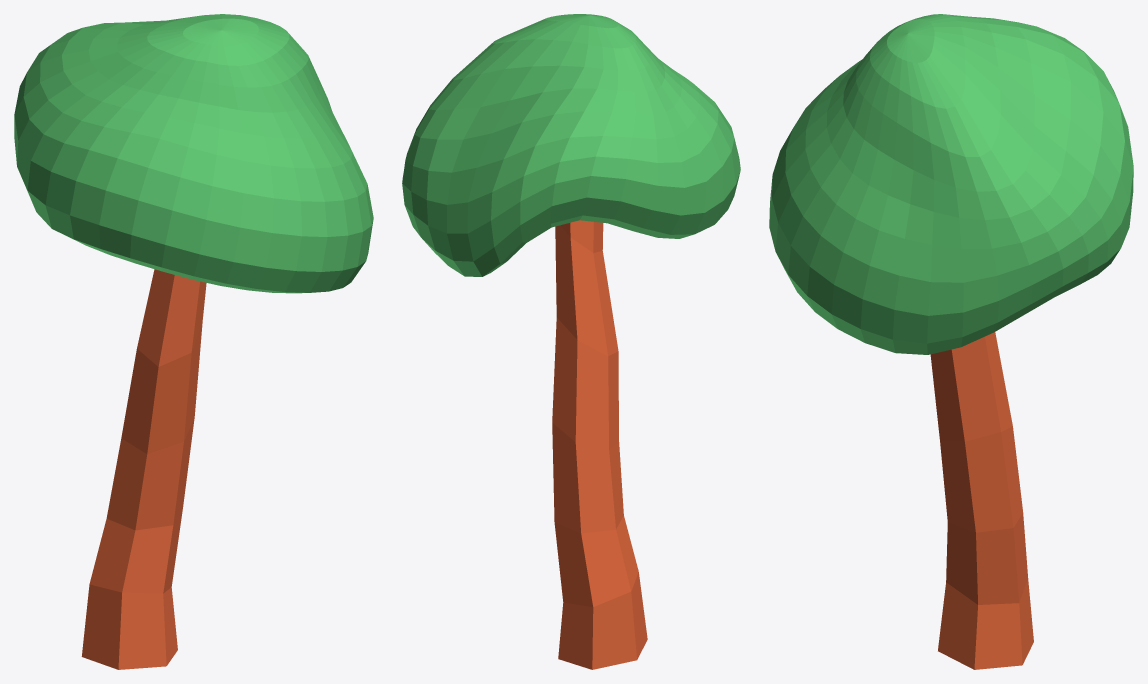
Rendered from Tree07.fbx.
3 views of the same model, side by side, from view 1: azimuth 30°, elevation 25°; view 2: azimuth 150°, elevation 25°; view 3: azimuth 270°, elevation 25° (orthographic). The views are drawn at different scales.
Parts seen in each view (by area): view 1: Circle.012; view 2: Circle.012; view 3: Circle.012.
Boxes of the visible parts, left/top/right/bottom form: Circle.012: left=14, top=14, right=373, bottom=669; Circle.012: left=402, top=14, right=740, bottom=669; Circle.012: left=769, top=14, right=1133, bottom=669.
Bounding box in the file's own units: 1835 × 3643 × 1869.
